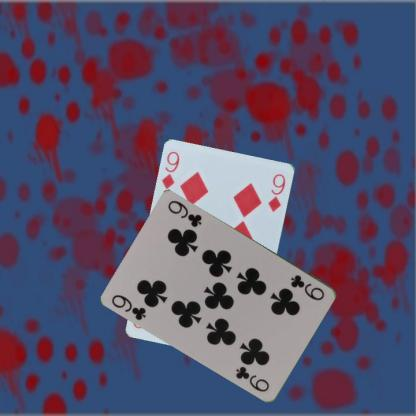9c: (109, 292, 148, 322), (288, 272, 326, 302)
9d: (159, 149, 181, 191)
